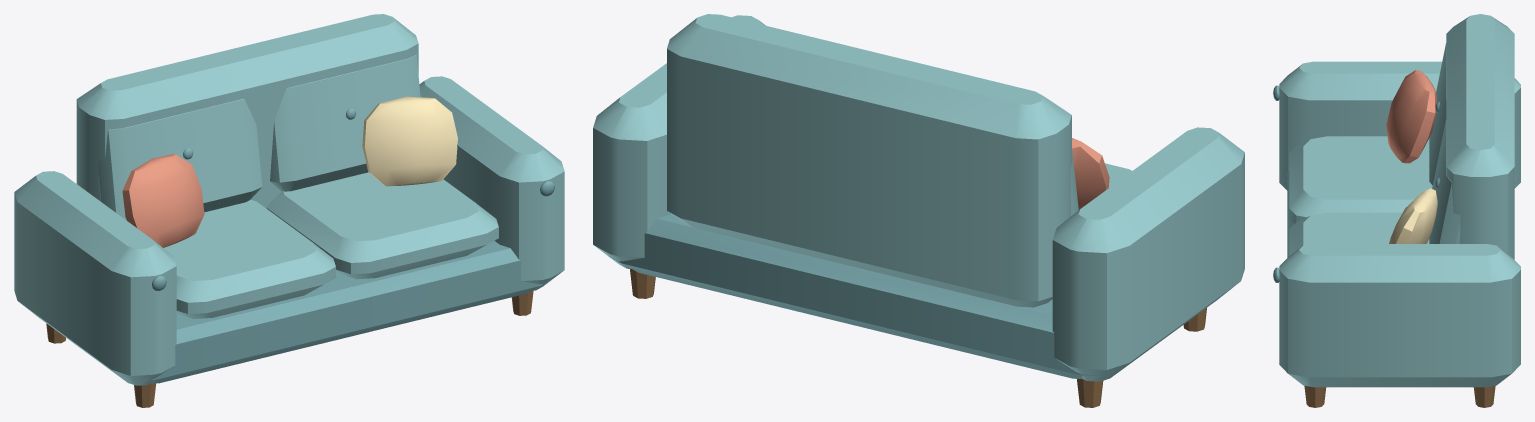
The model's file is furn_sofa.glb.
3 renders of one model, left to right at view 1: azimuth 30°, elevation 25°; view 2: azimuth 150°, elevation 25°; view 3: azimuth 270°, elevation 25°, orthographic. The views are drawn at different scales.
Visible parts, largest first — view 1: furn_sofa_body; view 2: furn_sofa_body; view 3: furn_sofa_body.
Part boxes in pixels (bbox=[...]): furn_sofa_body: bbox=[14, 14, 564, 407]; furn_sofa_body: bbox=[593, 14, 1244, 407]; furn_sofa_body: bbox=[1273, 14, 1520, 407].
Size of the model in its own units: 1.24 by 0.64 by 0.615.
